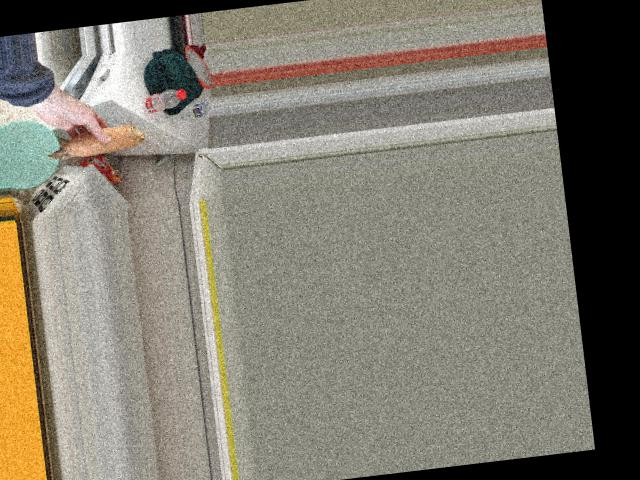sweet_potato: (51, 120, 137, 159)
